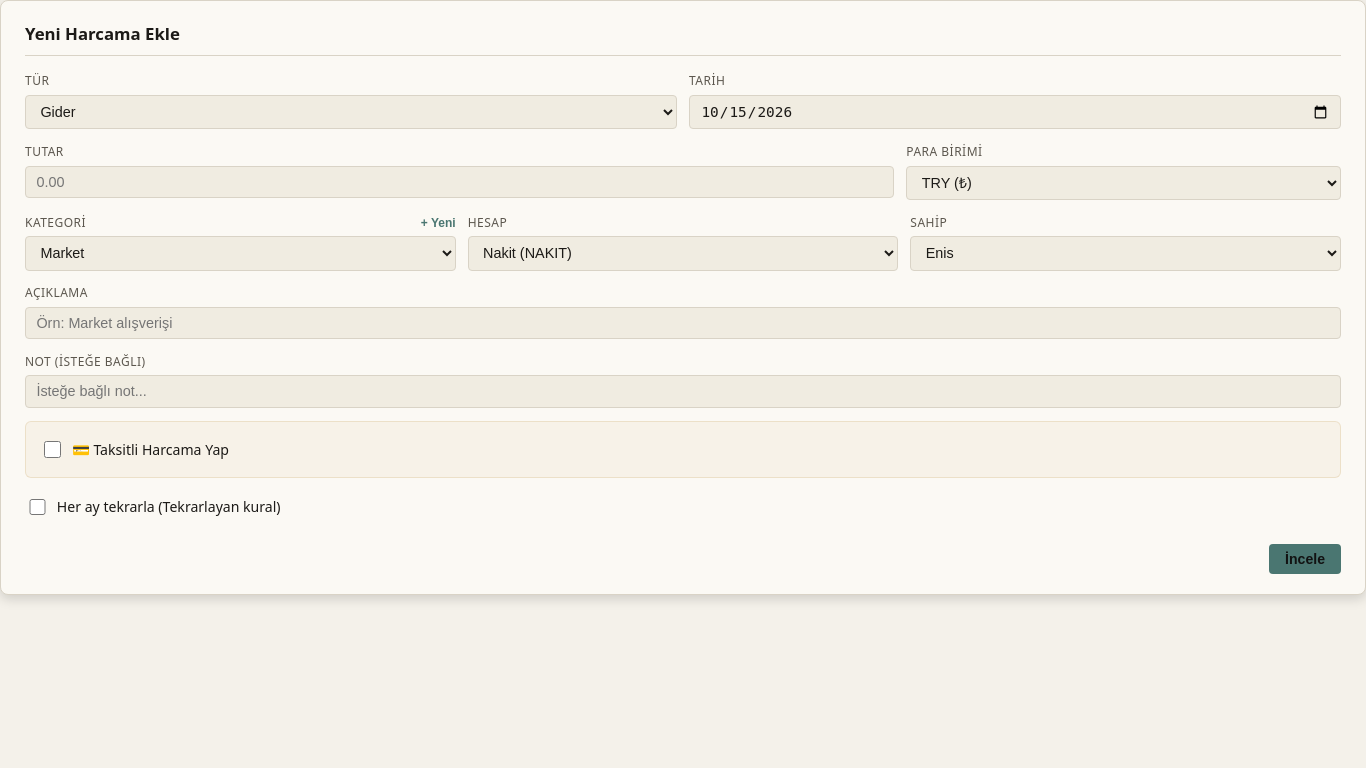
Test: HarcamaFormu › yeni kayıt formu zorunlu alanları doğrular
Description is filled, amount left empty
Step 1. Type "Kahve" into the field labelled "Açıklama" → (683, 323), box [25,307,1341,339]
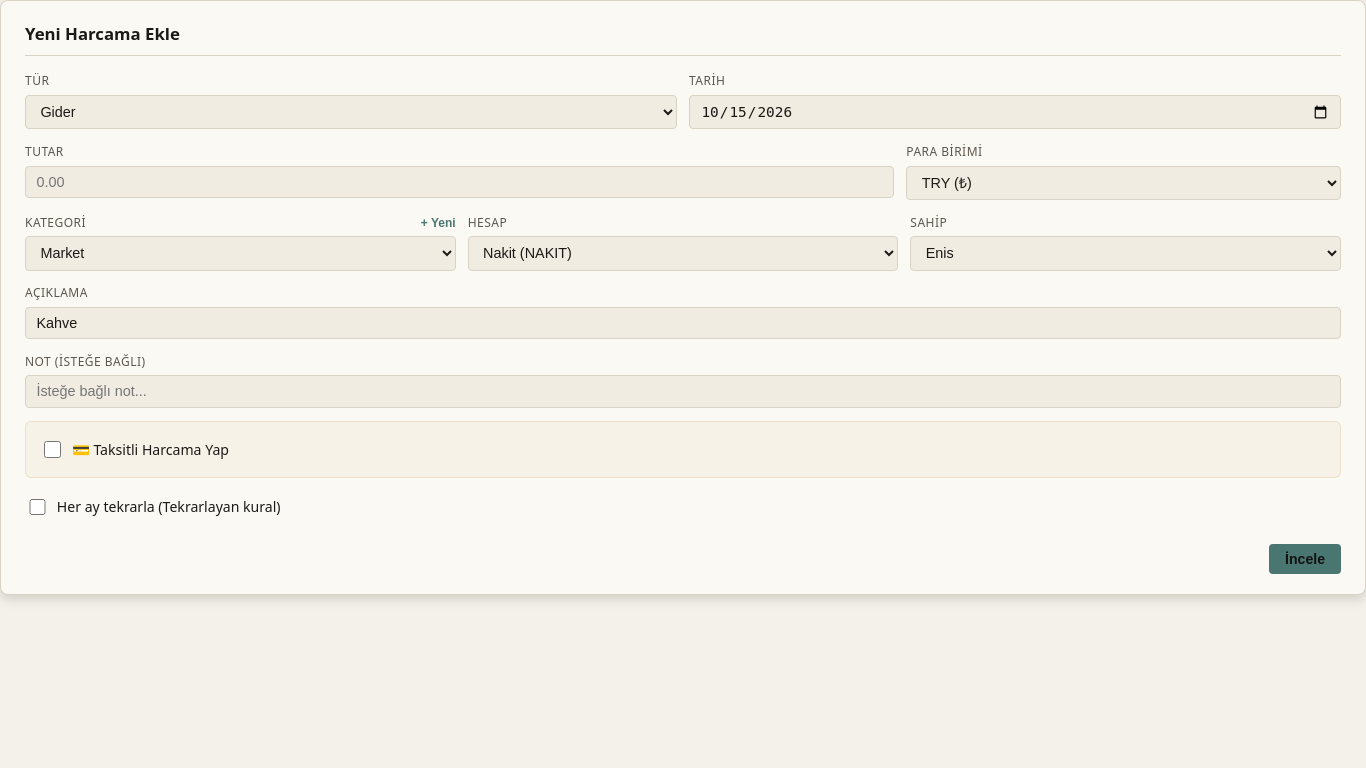
Step 2. Click the button "İncele" → (1305, 559), box [1269,544,1341,574]
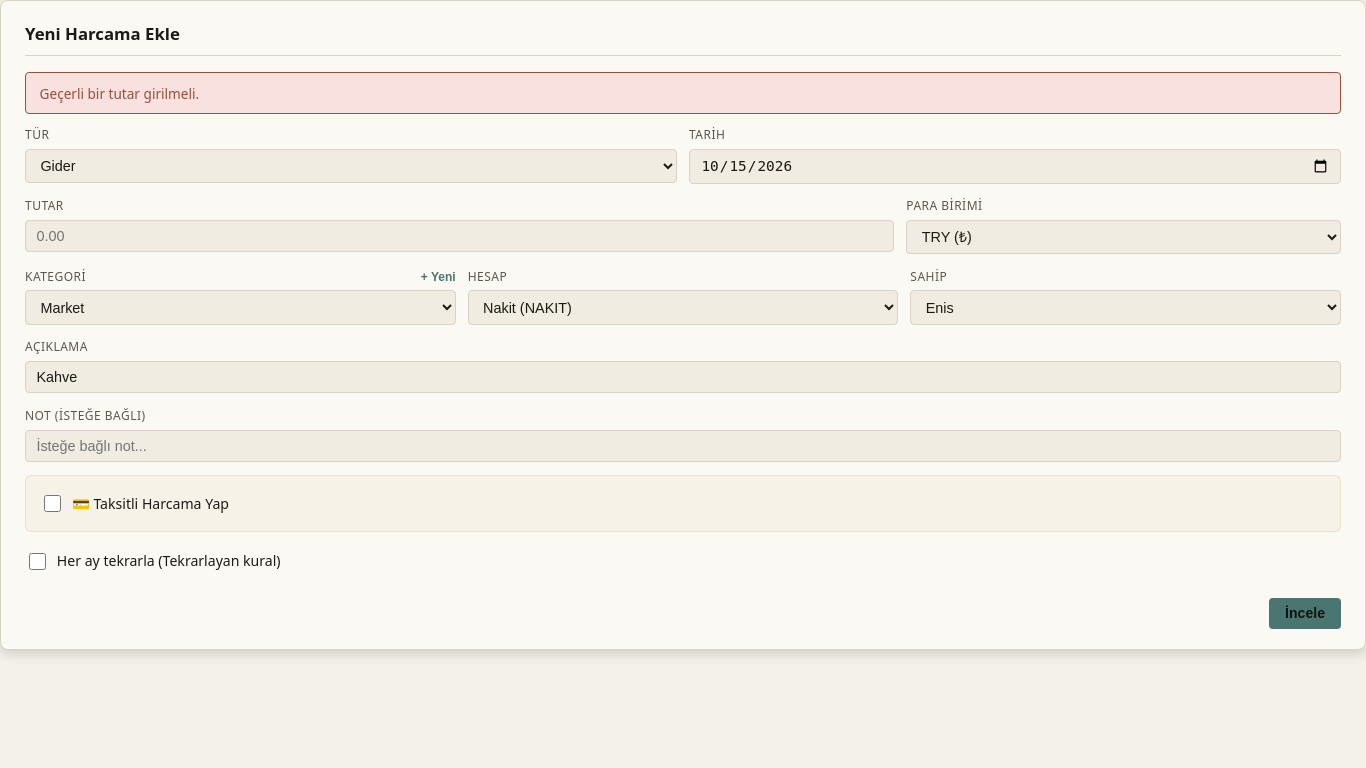
Now the text "Geçerli bir tutar girilmeli." is shown, box [25,72,1341,114]
